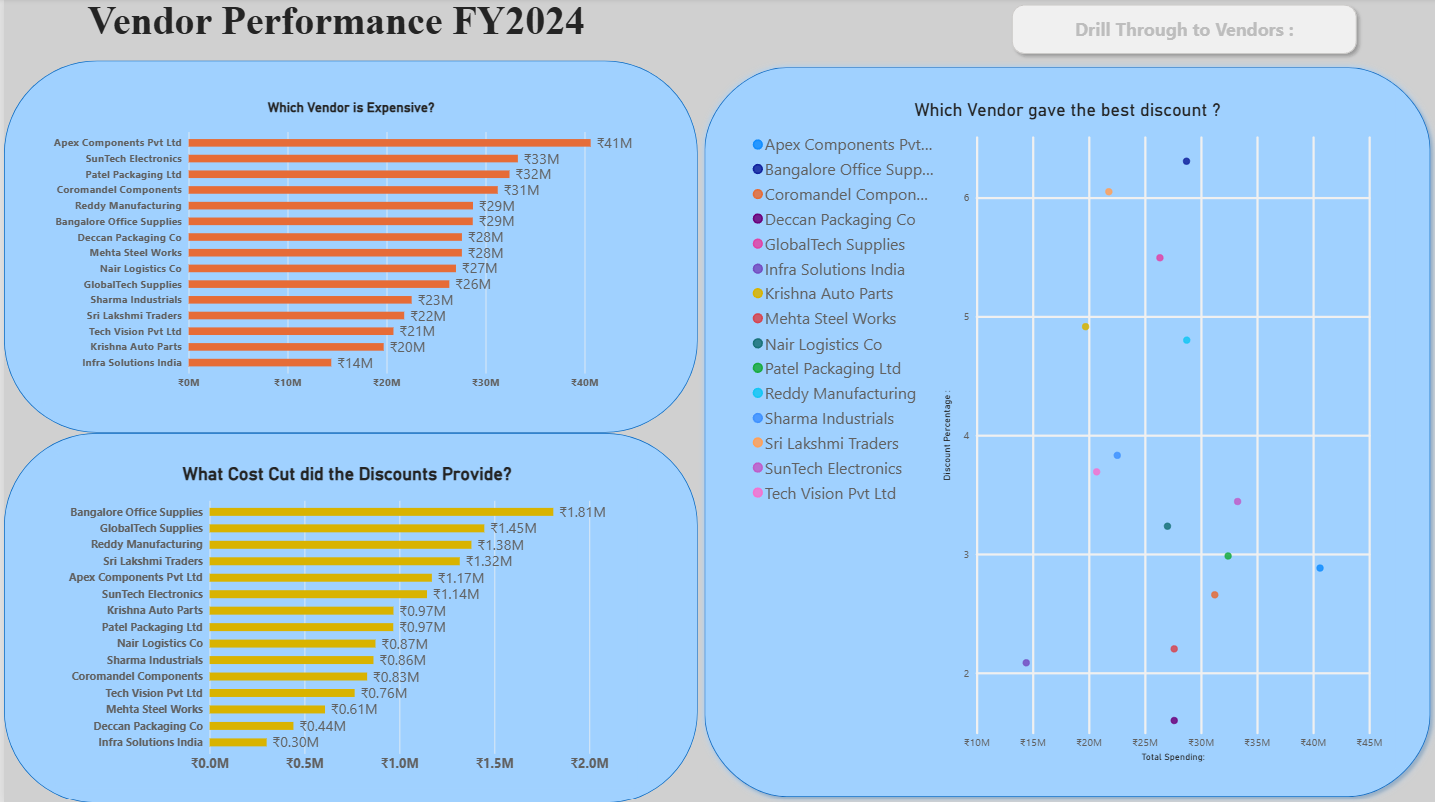

The page's visual inventory and layout, read from the dashboard file:
{"tool":"powerbi","page":{"name":"Vendor performance ","canvas":[1920,1080],"ordinal":1},"visuals":[{"type":"group","id":"g1","title":"Background","box":[0,83.7,1920.4,995.9],"z":0},{"type":"shape","box":[929.7,83.7,990.7,995.9],"z":0,"group":"g1"},{"type":"textbox","box":[10.5,0,870.4,64.5],"z":1000},{"type":"shape","box":[0,83.7,929.7,498.8],"z":1000,"group":"g1"},{"type":"clusteredBarChart","title":"Which Vendor is Expensive?","fields":{"Category":["Total spend and Discount.Vendor_Name"],"Y":["Sum(Total spend and Discount.Total_expenditure)"]},"box":[48.8,120.3,832,425.6],"z":2000},{"type":"shape","box":[0,582.5,929.7,497.1],"z":2000,"group":"g1"},{"type":"clusteredBarChart","title":"What Cost Cut did the Discounts Provide?","fields":{"Category":["Total spend and Discount.Vendor_Name"],"Y":["Sum(Total spend and Discount.Overall_discount)"]},"box":[68,608.7,781.4,451.7],"z":3000},{"type":"scatterChart","title":"Which Vendor gave the best discount ?","fields":{"Series":["Total spend and Discount.Vendor_Name"],"X":["Sum(Total spend and Discount.Total_expenditure)"],"Y":["Sum(Total spend and Discount.Discount Percentage)"]},"box":[984.9,120.6,879.3,919.5],"z":4000},{"type":"actionButton","box":[1341.3,0,479.7,83.7],"z":5000}]}

Visuals, with their boxes in screenshot pixels (x1, y1, x2, y2), scaled from the page's 1920x1080 canvas onto the 1435x802 screenshot:
"Background" group: detection(0, 62, 1434, 801)
shape: detection(695, 62, 1434, 801)
textbox: detection(8, 0, 658, 48)
shape: detection(0, 62, 695, 433)
"Which Vendor is Expensive?" clusteredBarChart: detection(36, 89, 658, 405)
shape: detection(0, 433, 695, 801)
"What Cost Cut did the Discounts Provide?" clusteredBarChart: detection(51, 452, 635, 787)
"Which Vendor gave the best discount ?" scatterChart: detection(736, 90, 1393, 772)
actionButton: detection(1002, 0, 1361, 62)
